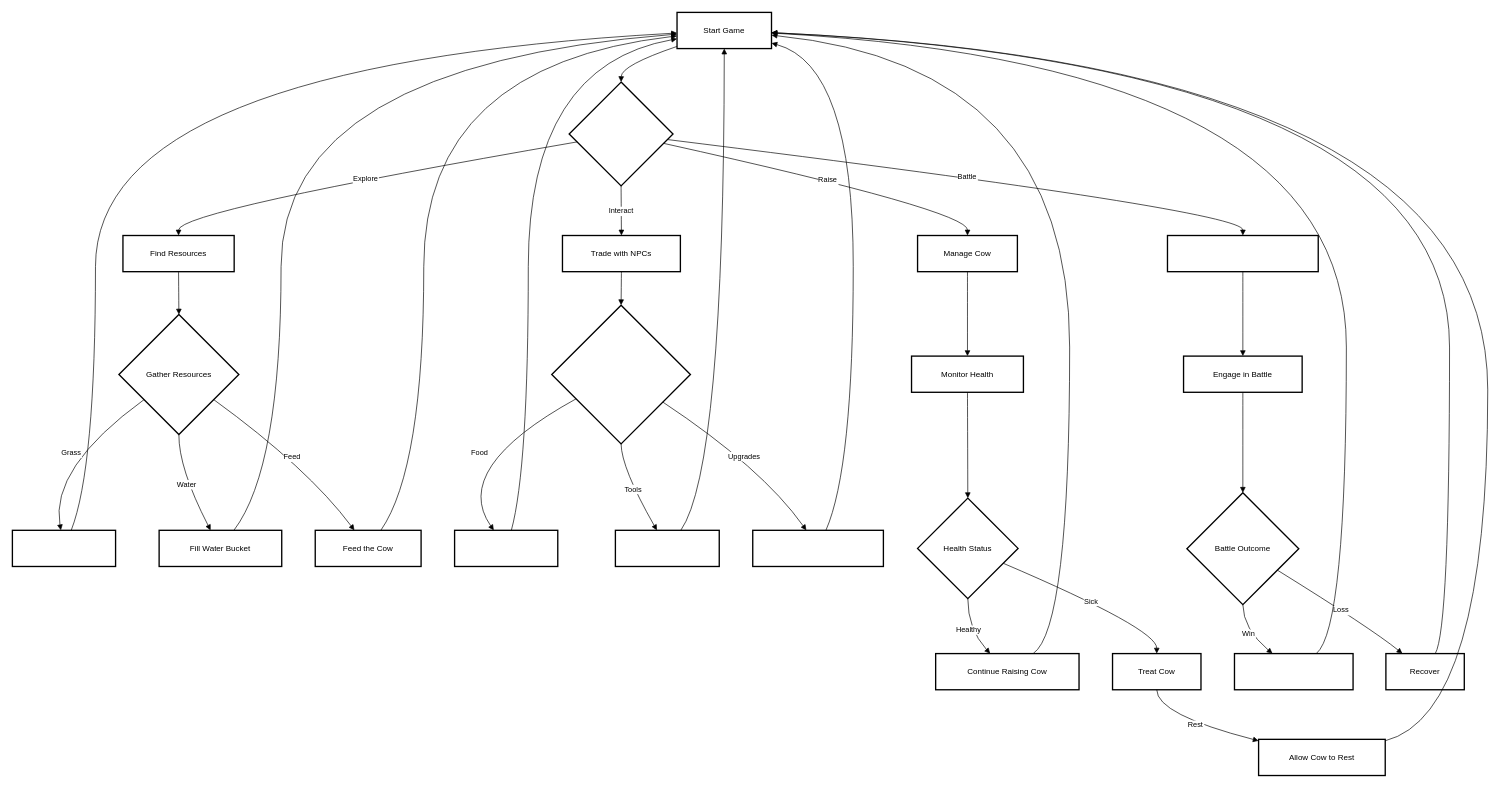
The diagram is 1499 pixels wide and 787 high, and some of its shapes have lost their labels. Each missing label, with the centre of its shape:
Acquire Food: point 506,548
Acquire Tools: point 667,548
Choose Action: point 620,133
Choose Item to Trade: point 621,374
Collect Grass: point 63,548
Compete in Cow Fights: point 1242,253
Gain Experience: point 1293,671
Purchase Upgrades: point 818,548
